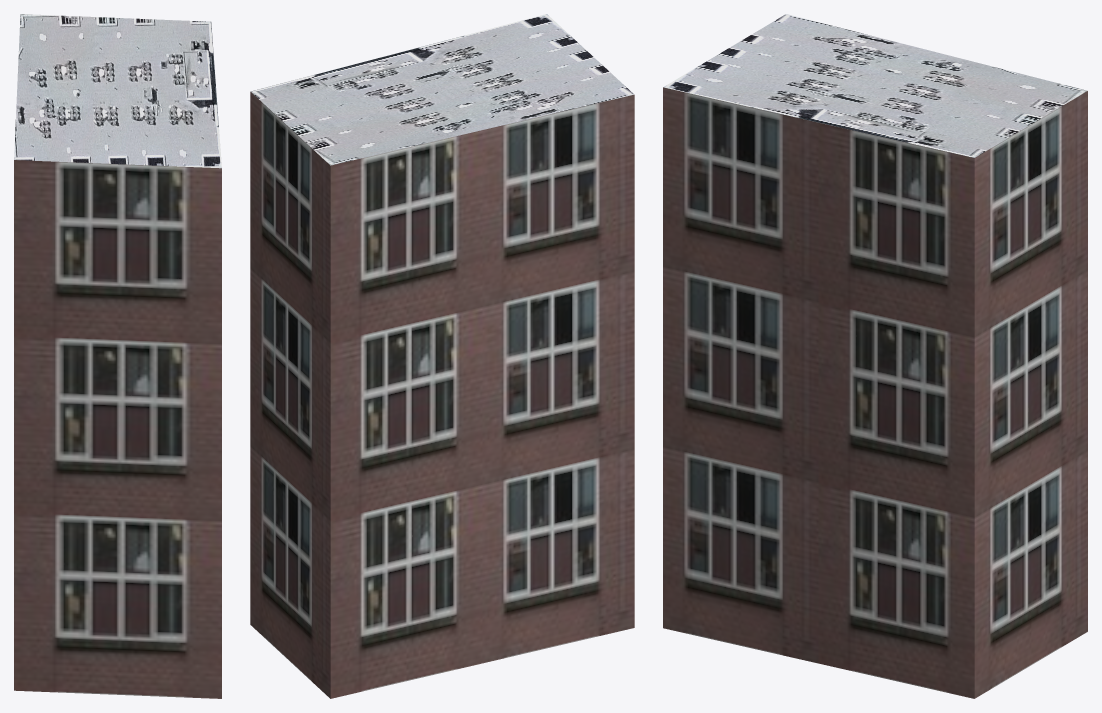
Rendered from ResTex__4469.fbx.
3 views of the same model, side by side, from view 1: azimuth 30°, elevation 25°; view 2: azimuth 150°, elevation 25°; view 3: azimuth 270°, elevation 25° (orthographic).
Parts seen in each view (by area): view 1: CityEngineMaterial_12_m, CityEngineMaterial_m; view 2: CityEngineMaterial_12_m, CityEngineMaterial_m; view 3: CityEngineMaterial_12_m, CityEngineMaterial_m.
Part boxes in pixels (box(x1,y1,x2,y2)): CityEngineMaterial_12_m: box(14, 160, 221, 698); CityEngineMaterial_m: box(14, 14, 221, 168); CityEngineMaterial_12_m: box(250, 92, 634, 698); CityEngineMaterial_m: box(250, 14, 633, 165); CityEngineMaterial_12_m: box(663, 87, 1087, 698); CityEngineMaterial_m: box(663, 14, 1087, 157).
Size of the model in its own units: 5.14 by 9 by 6.41.
2 materials, 2 textured.
